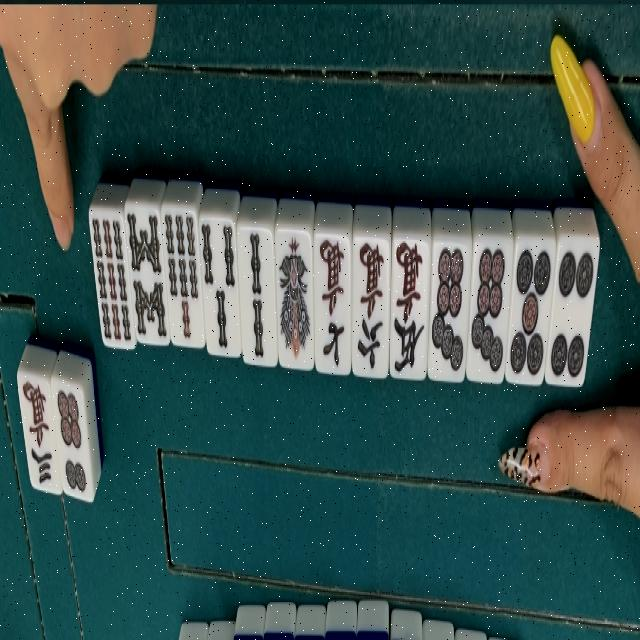bamboos_1: (275, 222, 314, 371)
bamboos_2: (237, 217, 276, 375)
bamboos_3: (198, 214, 238, 364)
bamboos_7: (161, 205, 203, 348)
bamboos_8: (122, 205, 170, 346)
bamboos_9: (88, 215, 134, 351)
characters_5: (390, 231, 431, 384)
characters_6: (353, 230, 390, 382)
characters_7: (314, 231, 352, 377)
circles_4: (546, 233, 600, 390)
circles_5: (504, 238, 554, 392)
circles_7: (466, 231, 516, 390), (428, 234, 472, 388)
